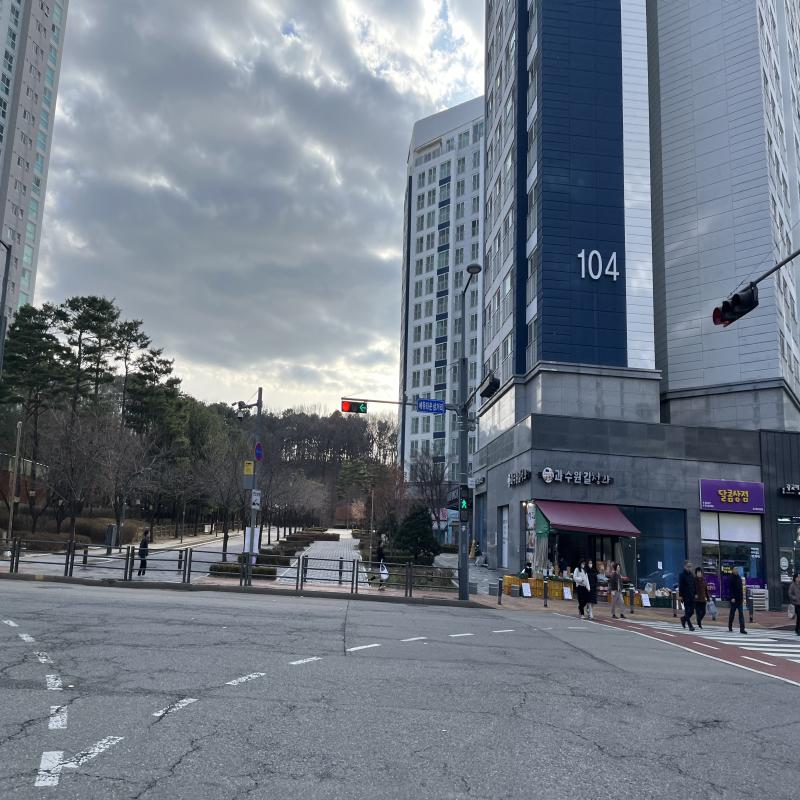left: (359, 404, 367, 413)
red: (342, 402, 350, 412)
